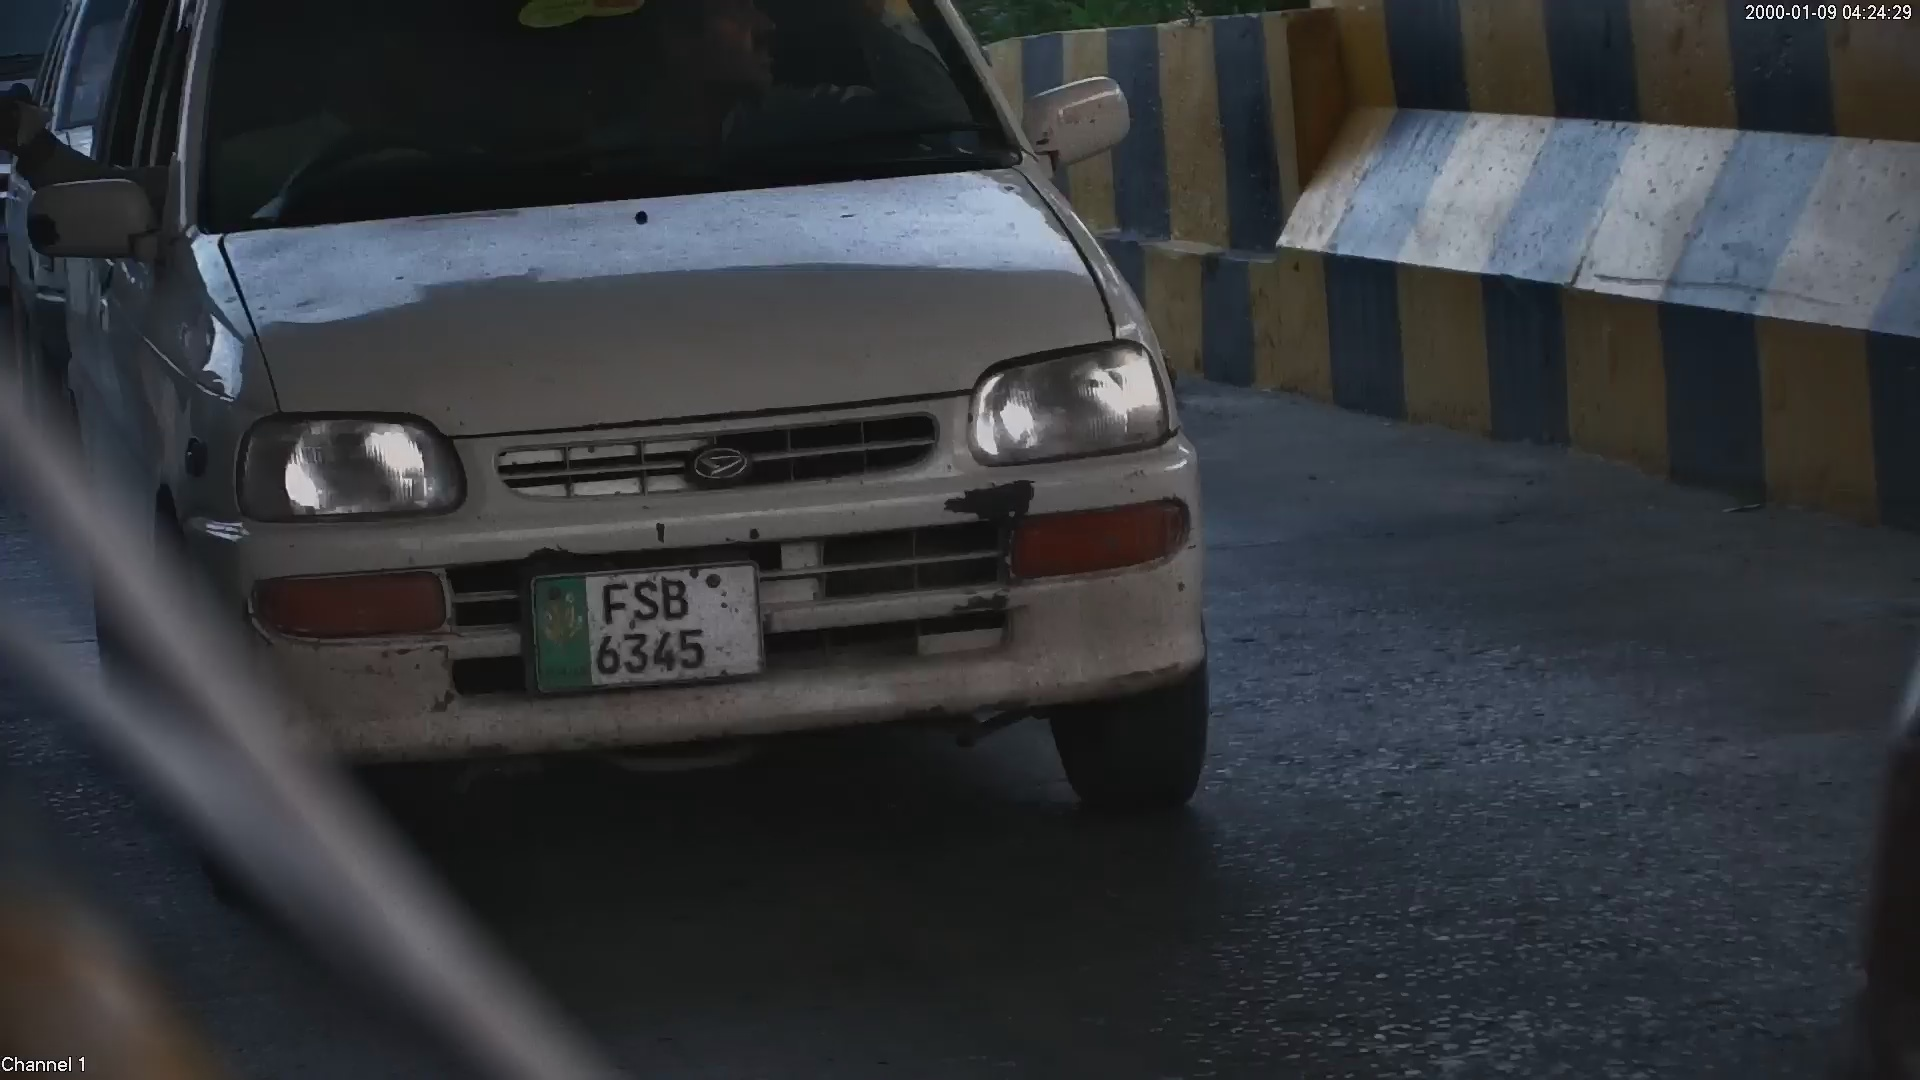Number_Plate: (515, 546, 767, 690)
Undefined: (237, 423, 454, 518), (976, 353, 1165, 457), (247, 568, 454, 644), (995, 499, 1191, 573), (684, 442, 760, 490)
